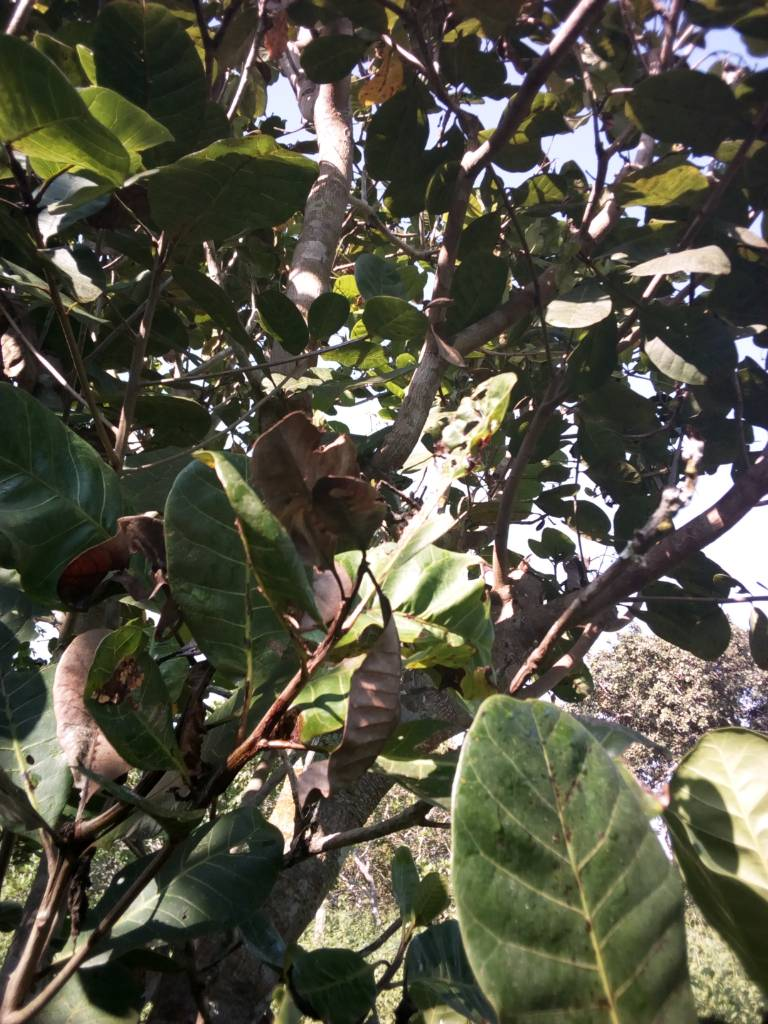Dessèchement des bourgeons: (261, 416, 385, 546), (313, 558, 406, 720)
